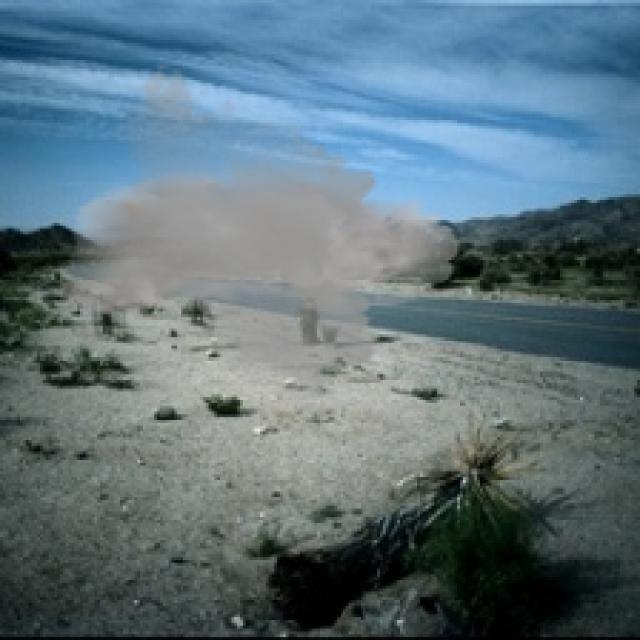Smoke: (54, 59, 460, 412)
